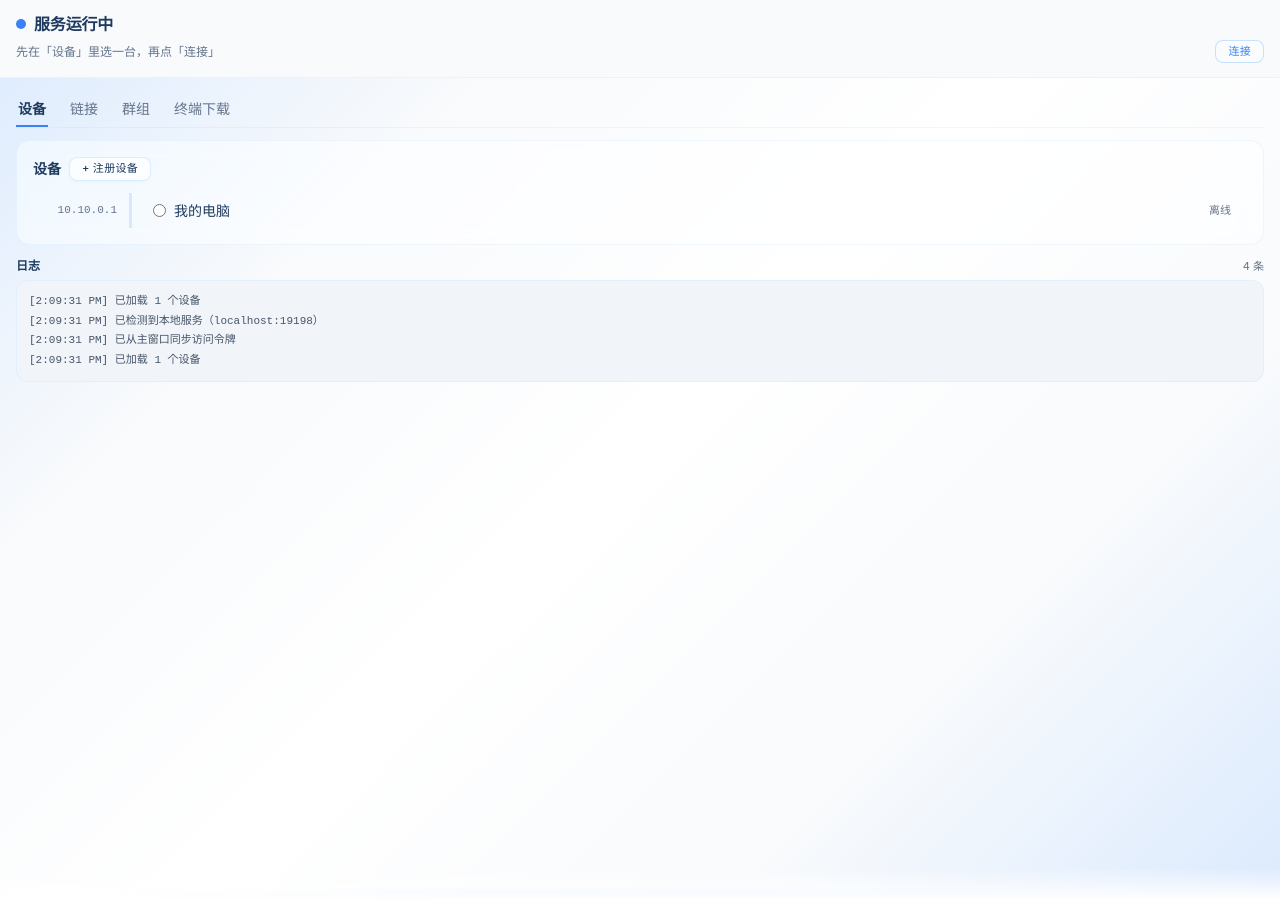
Test case: HuanvaeGuardPage — 启动隧道时携带控制面凭据 › 缺刷新令牌：仍然连接（daemon 侧是 Option），但必须在日志里说出来
Step 1. Click the radio button → (160, 210), box x1=153 y1=204 x2=166 y2=217
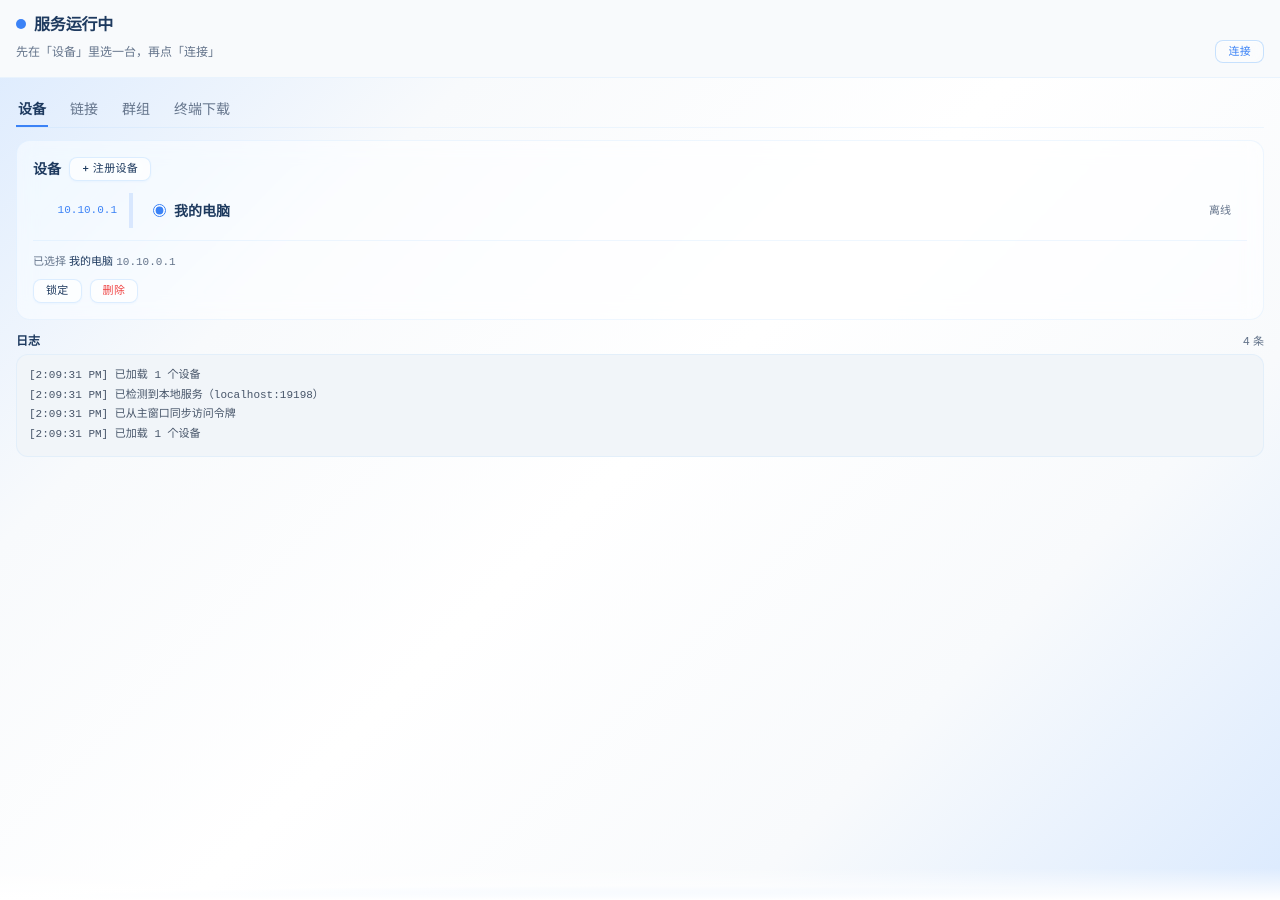
Step 2. Click the button "连接" → (1240, 52), box x1=1215 y1=40 x2=1264 y2=63
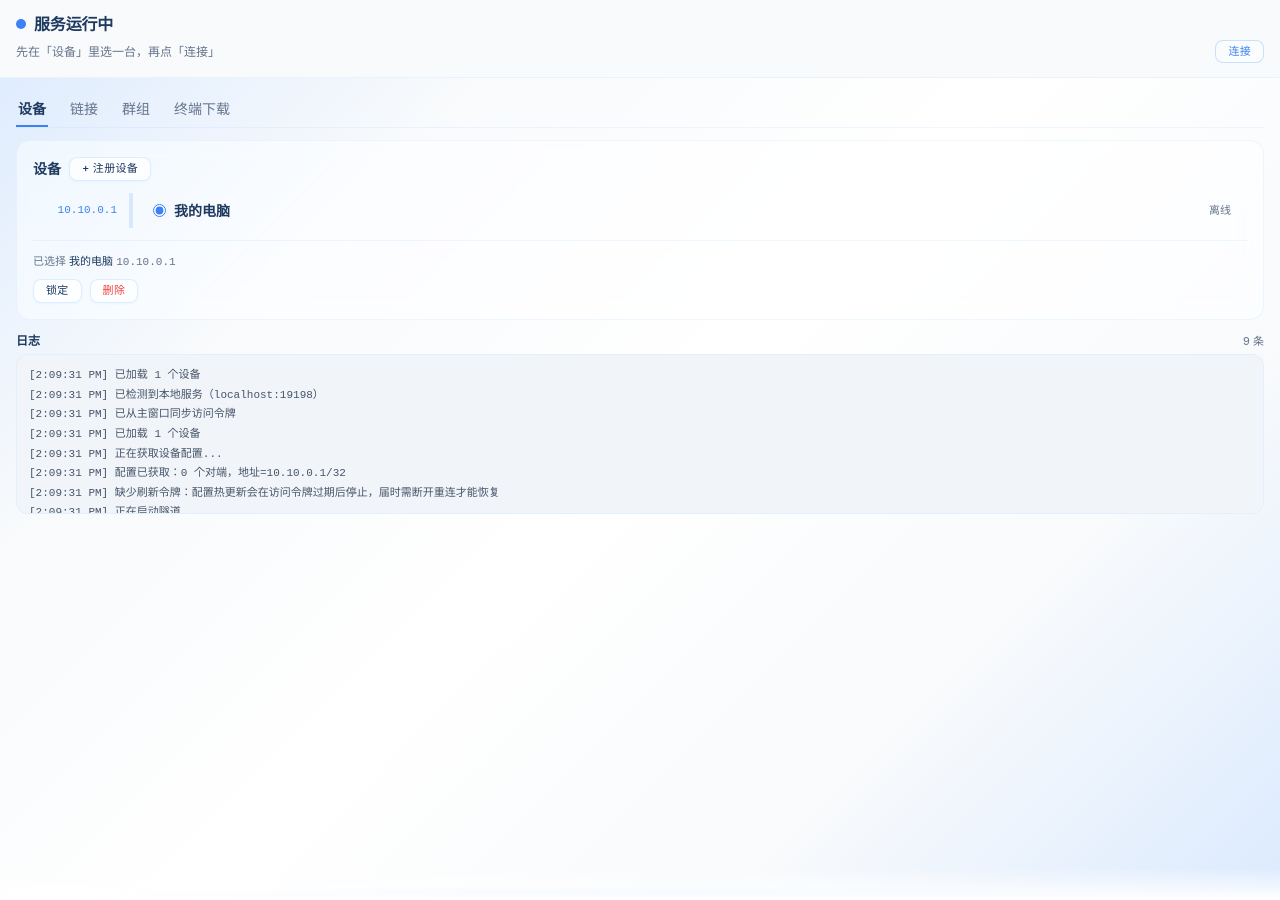
Expected: the text "[2:09:31 PM] 缺少刷新令牌：配置热更新会在访问令牌过期后停止，届时需断开重连才能恢复" is shown, x1=29 y1=487 x2=500 y2=499
